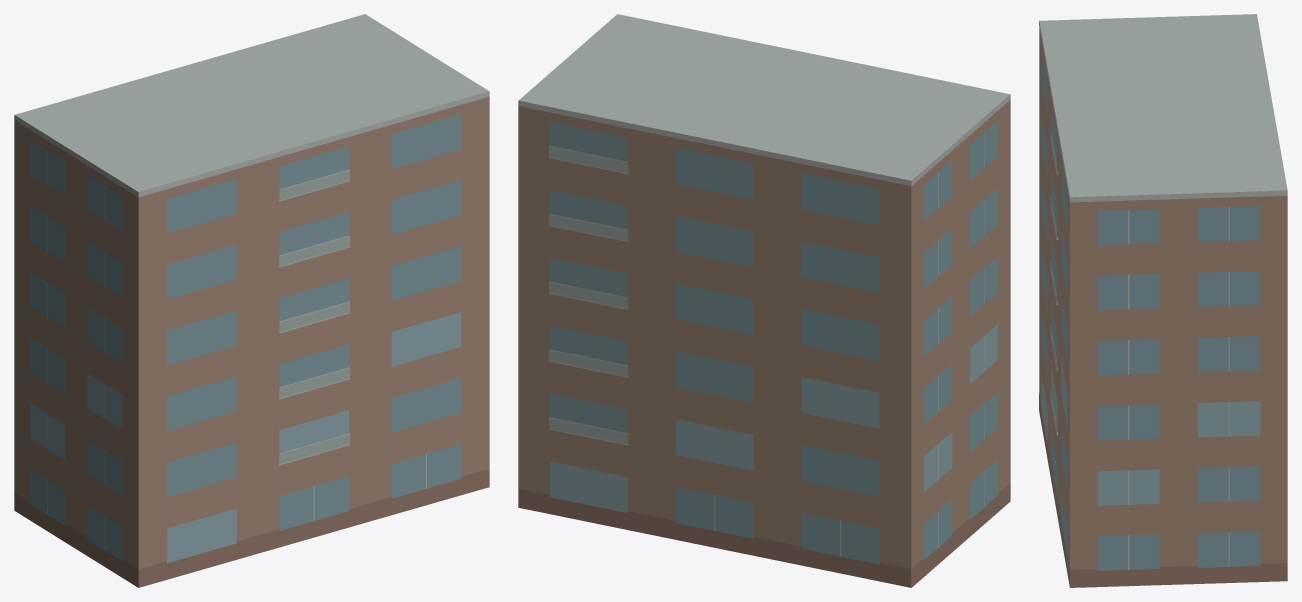
File: survey-upis-32699749.glb
3 renders of one model, left to right at view 1: azimuth 30°, elevation 25°; view 2: azimuth 150°, elevation 25°; view 3: azimuth 270°, elevation 25°, orthographic. The views are drawn at different scales.
Visible parts, largest first — view 1: survey-upis-32699749.tmp; view 2: survey-upis-32699749.tmp; view 3: survey-upis-32699749.tmp.
Boxes of the visible parts, bbox=[...] form: survey-upis-32699749.tmp: bbox=[14, 14, 489, 587]; survey-upis-32699749.tmp: bbox=[518, 14, 1010, 587]; survey-upis-32699749.tmp: bbox=[1039, 14, 1287, 587].
Bounding box in the file's own units: 18.42 × 18.3 × 10.56.
